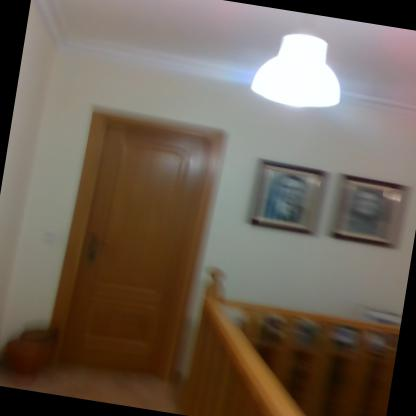closed: (41, 95, 238, 394)
